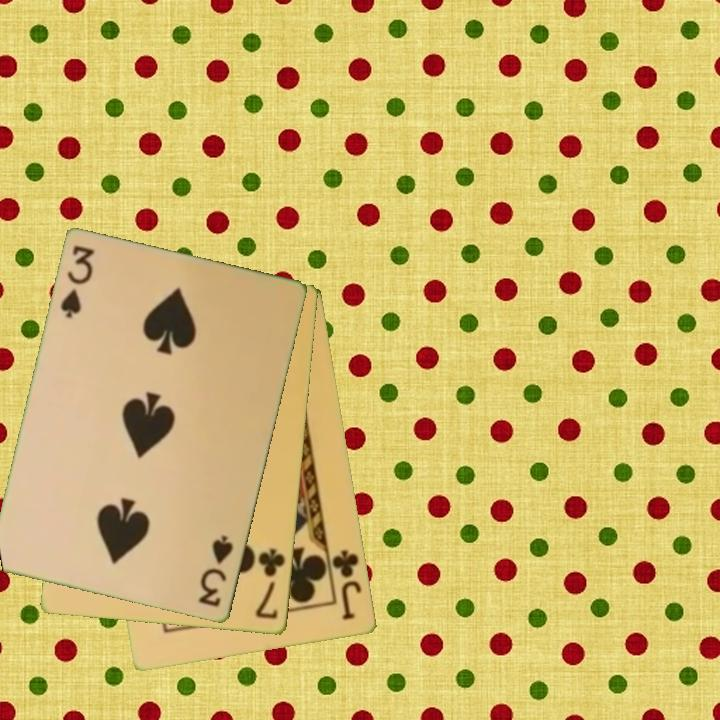3s: (195, 532, 237, 611), (57, 242, 98, 322)
7c: (252, 546, 289, 622)
Jc: (329, 546, 365, 624)
